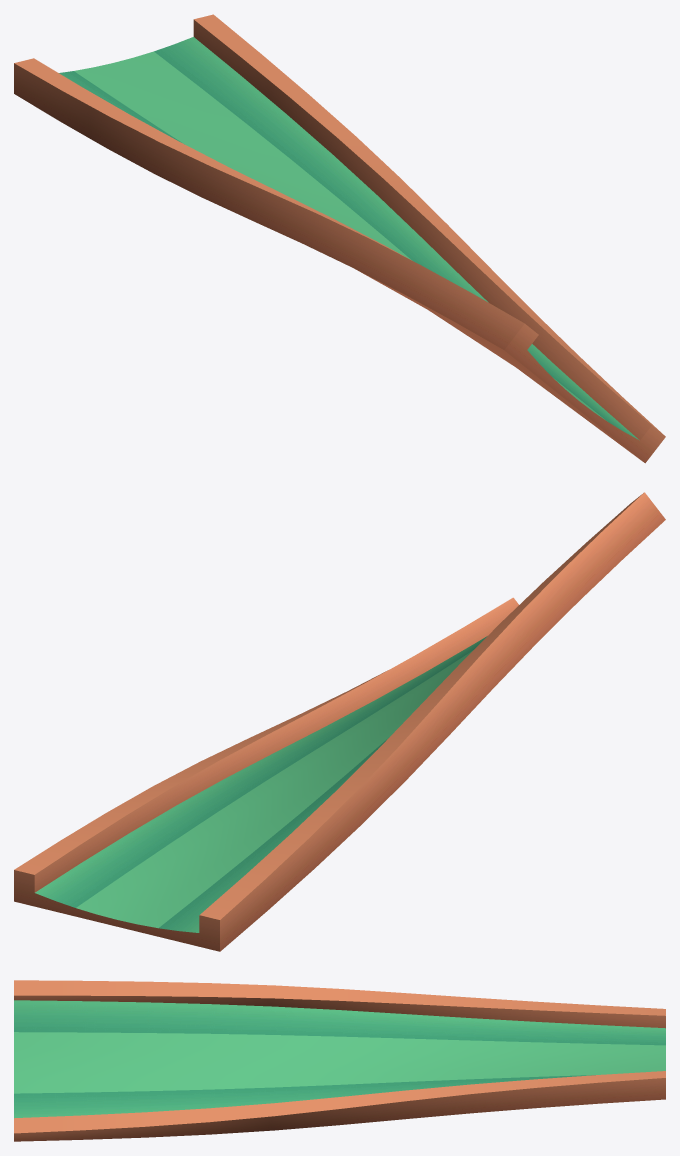
Rendered from spline-concave-straight-skew-left.glb.
3 renders of one model, top to bottom at view 1: azimuth 30°, elevation 25°; view 2: azimuth 150°, elevation 25°; view 3: azimuth 270°, elevation 25°, orthographic. The views are drawn at different scales.
Parts seen in each view (by area): view 1: spline-concave-straight-skew-left; view 2: spline-concave-straight-skew-left; view 3: spline-concave-straight-skew-left.
Part boxes in pixels (x1,y1,x2,y2): spline-concave-straight-skew-left: (14, 14, 665, 463); spline-concave-straight-skew-left: (14, 492, 665, 951); spline-concave-straight-skew-left: (14, 980, 665, 1141).
Bounding box in the file's own units: 1.02 × 0.8108 × 4.
1 material, 1 textured.
